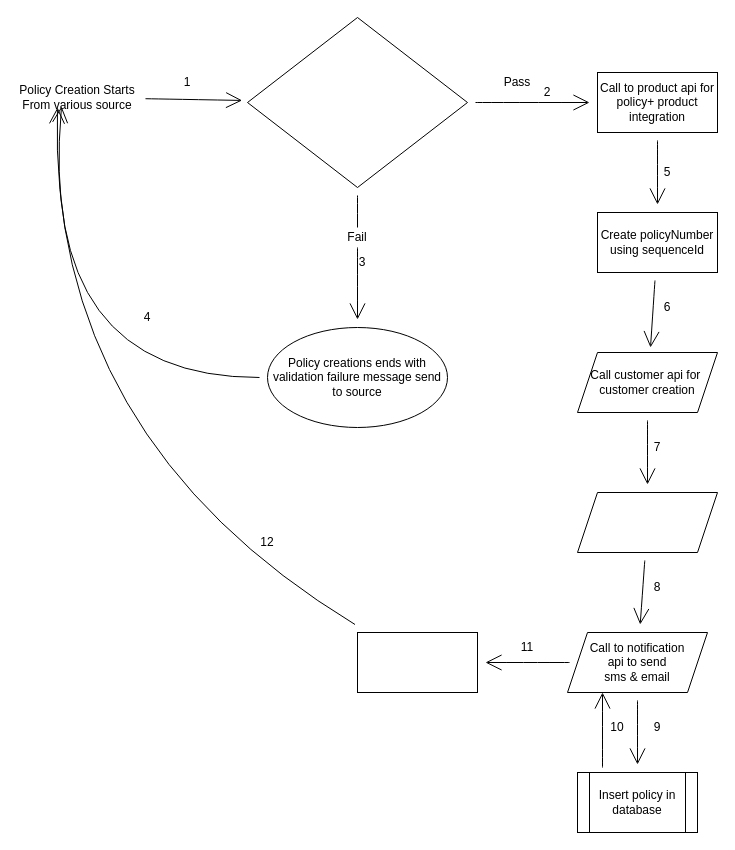
Some shapes in this 735 by 850 pixel diagram are drawn without their labels. Each missing label, with the centre of its shape:
"Call doc gen service for ecert creation" belongs at (647,522).
"Perform all Validations including duplicate check" belongs at (357,102).
"Send response to source with complete details of policy created inside CRMZ" belongs at (417,662).
